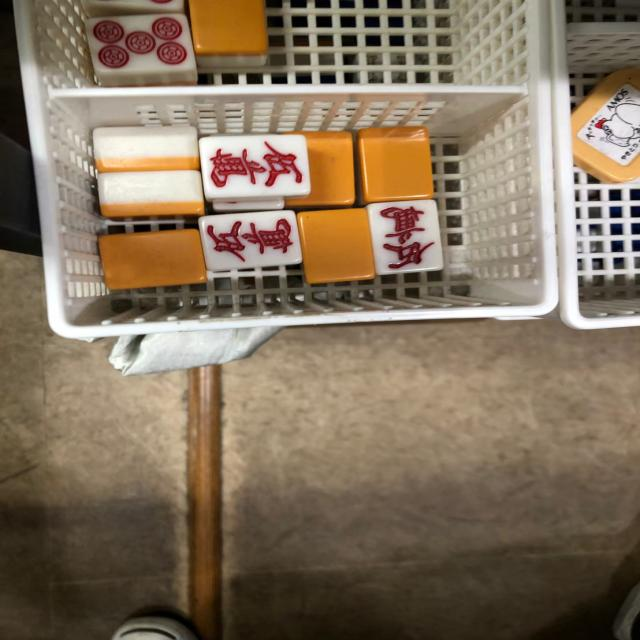characters_5: (200, 134, 309, 198), (366, 200, 446, 271), (198, 214, 302, 265)
circles_5: (84, 16, 194, 70)
